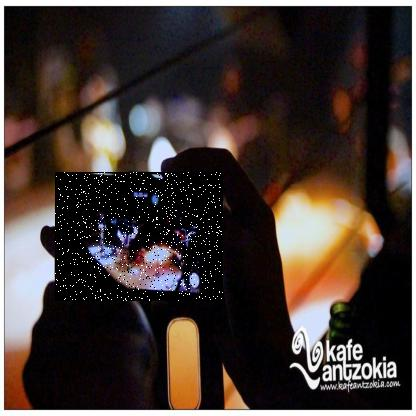Camera: (56, 173, 225, 303)
